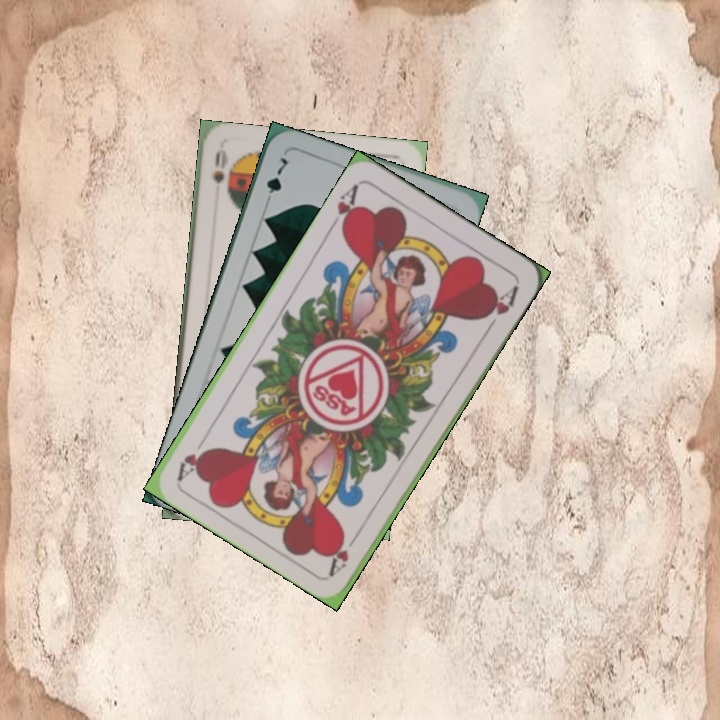G7: (261, 153, 291, 209)
HA: (325, 524, 365, 577), (325, 180, 362, 236)
SO: (209, 146, 231, 187)
